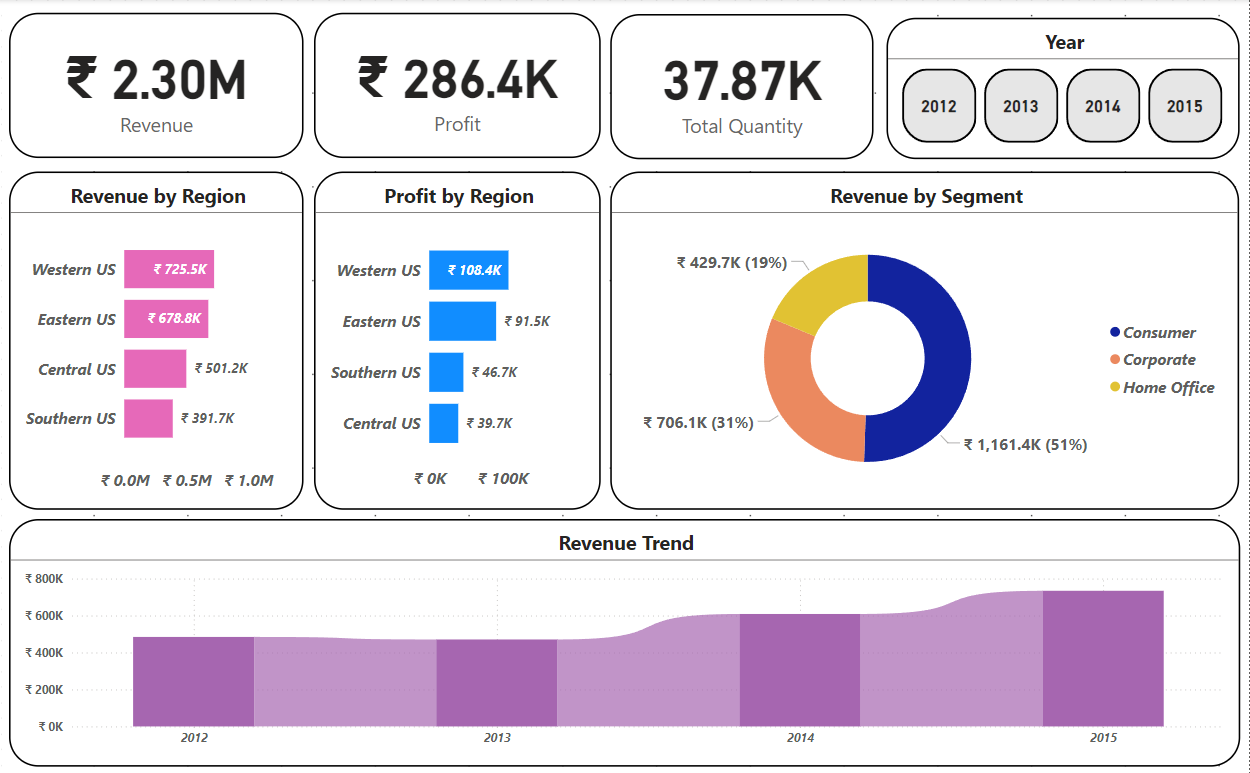

What the dashboard file says about the page in this screenshot:
{"tool":"powerbi","page":{"name":"Page 1","canvas":[1280,800],"ordinal":0},"visuals":[{"type":"card","fields":{"Values":["BaseMeasures.Revenue"]},"box":[9.7,13.9,301.9,148.9],"z":0},{"type":"card","fields":{"Values":["BaseMeasures.Profit"]},"box":[322.8,13.9,293.6,148.9],"z":1000},{"type":"card","fields":{"Values":["BaseMeasures.Total Quantity"]},"box":[626.1,15.3,269.9,148.9],"z":2000},{"type":"advancedSlicerVisual","fields":{"Values":["order_details.Year"]},"box":[908.5,19.5,361.7,144.7],"z":3000},{"type":"barChart","fields":{"Category":["order_details.Region"],"Y":["BaseMeasures.Revenue"]},"box":[9.7,176.7,301.9,346.4],"z":4000},{"type":"barChart","fields":{"Category":["order_details.Region"],"Y":["BaseMeasures.Profit"]},"box":[322.8,176.7,293.6,346.4],"z":5000},{"type":"ribbonChart","title":"Revenue Trend","fields":{"Category":["order_details.Year"],"Y":["BaseMeasures.Revenue"]},"box":[9.7,532.9,1260.5,253.2],"z":6000},{"type":"donutChart","fields":{"Category":["order_details.Segment"],"Y":["BaseMeasures.Revenue"]},"box":[626.1,176.7,644.2,346.4],"z":7000}]}

Visuals, with their boxes in screenshot pixels (x1, y1, x2, y2), scaled from the page's 1280x800 canvas onto the 1250x773 screenshot:
card - BaseMeasures.Revenue: 9,13,304,157
card - BaseMeasures.Profit: 315,13,602,157
card - BaseMeasures.Total Quantity: 611,15,875,159
advancedSlicerVisual - order_details.Year: 887,19,1240,159
barChart - order_details.Region x BaseMeasures.Revenue: 9,171,304,505
barChart - order_details.Region x BaseMeasures.Profit: 315,171,602,505
"Revenue Trend" ribbonChart: 9,515,1240,760
donutChart - order_details.Segment x BaseMeasures.Revenue: 611,171,1241,505
